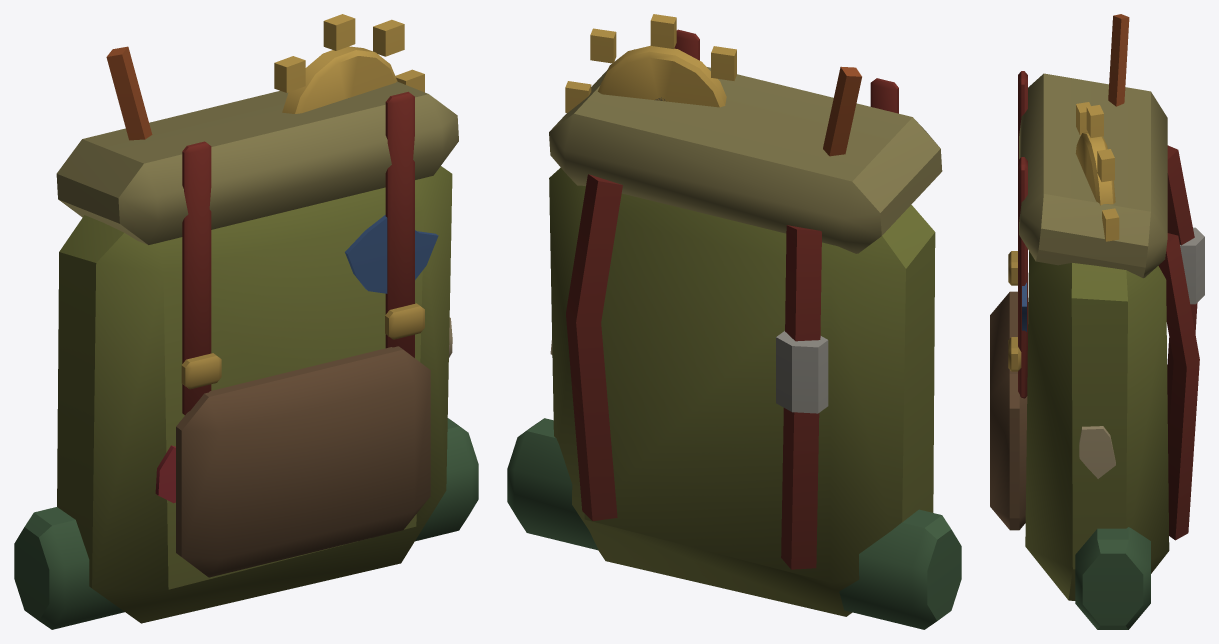
File: 185_sac_a_dos.fbx
3 renders of one model, left to right at view 1: azimuth 30°, elevation 25°; view 2: azimuth 150°, elevation 25°; view 3: azimuth 270°, elevation 25°, orthographic. The views are drawn at different scales.
Visible parts, largest first — view 1: Sac; view 2: Sac; view 3: Sac.
Part boxes in pixels (x1,y1,x2,y2): Sac: (14, 14, 478, 629); Sac: (507, 14, 961, 629); Sac: (990, 14, 1204, 629).
Bounding box in the file's own units: 0.56 × 0.7 × 0.28.
Materials: 1 (1 with a texture image).
